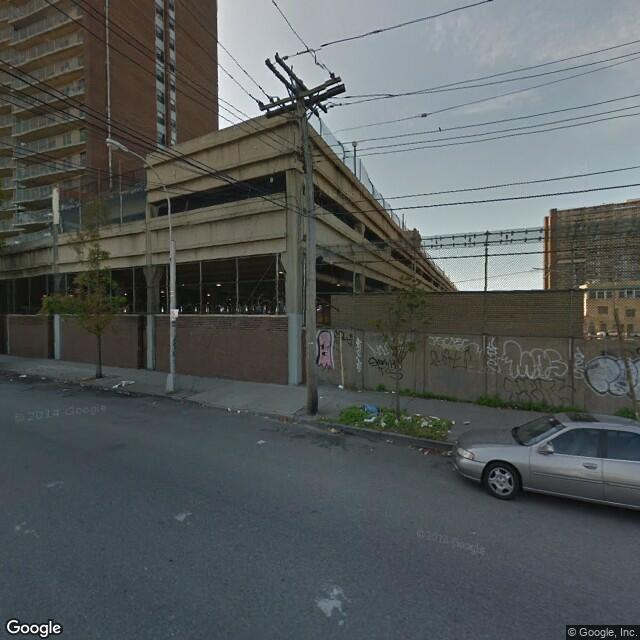litter: (8, 366, 36, 388), (107, 374, 137, 394), (448, 414, 482, 430), (352, 417, 379, 433), (396, 406, 421, 423), (332, 376, 350, 394), (323, 420, 341, 437), (414, 441, 439, 453), (355, 402, 380, 413), (422, 408, 437, 426), (377, 433, 396, 445), (221, 403, 244, 412), (387, 384, 396, 402)
